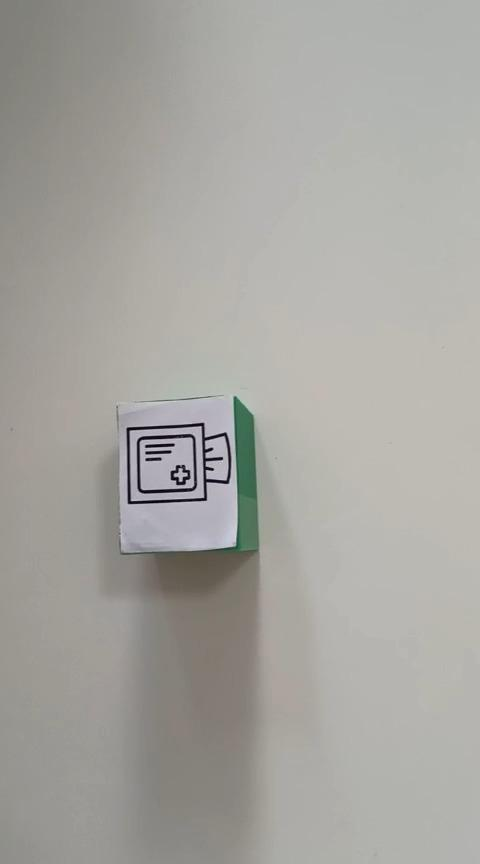Gauze: (115, 393, 259, 555)
